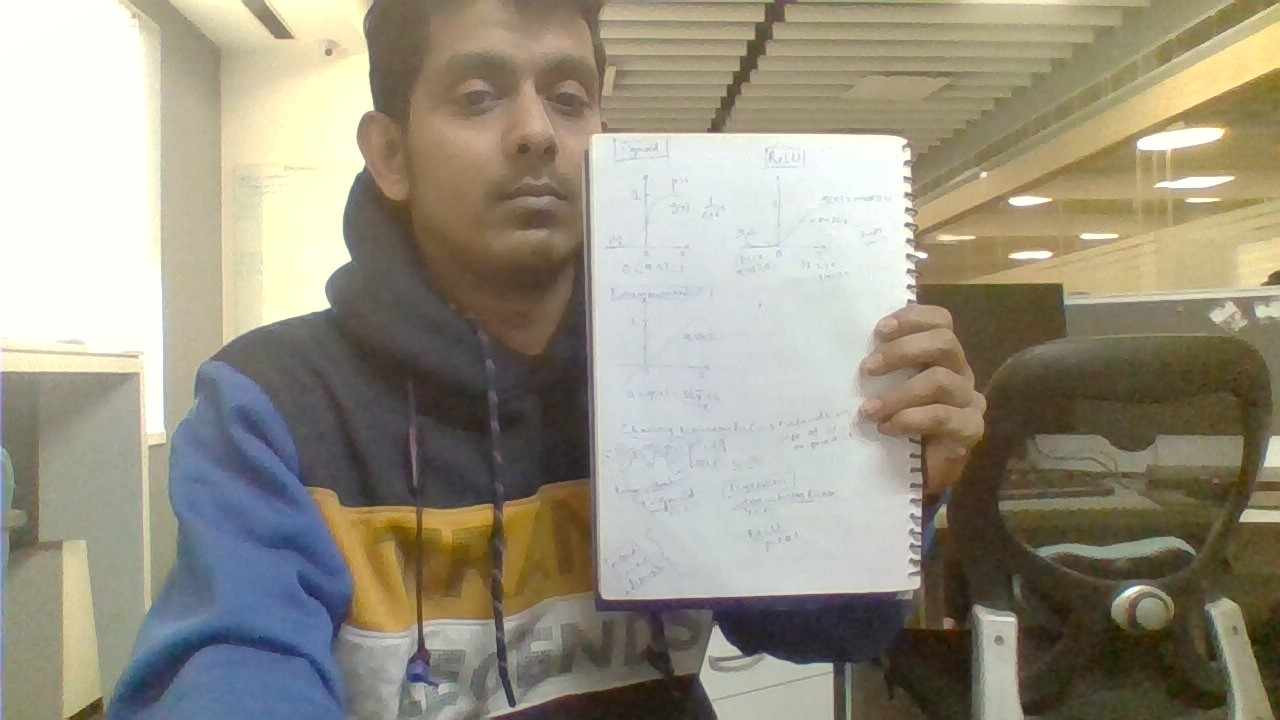notebook: (584, 131, 930, 604)
